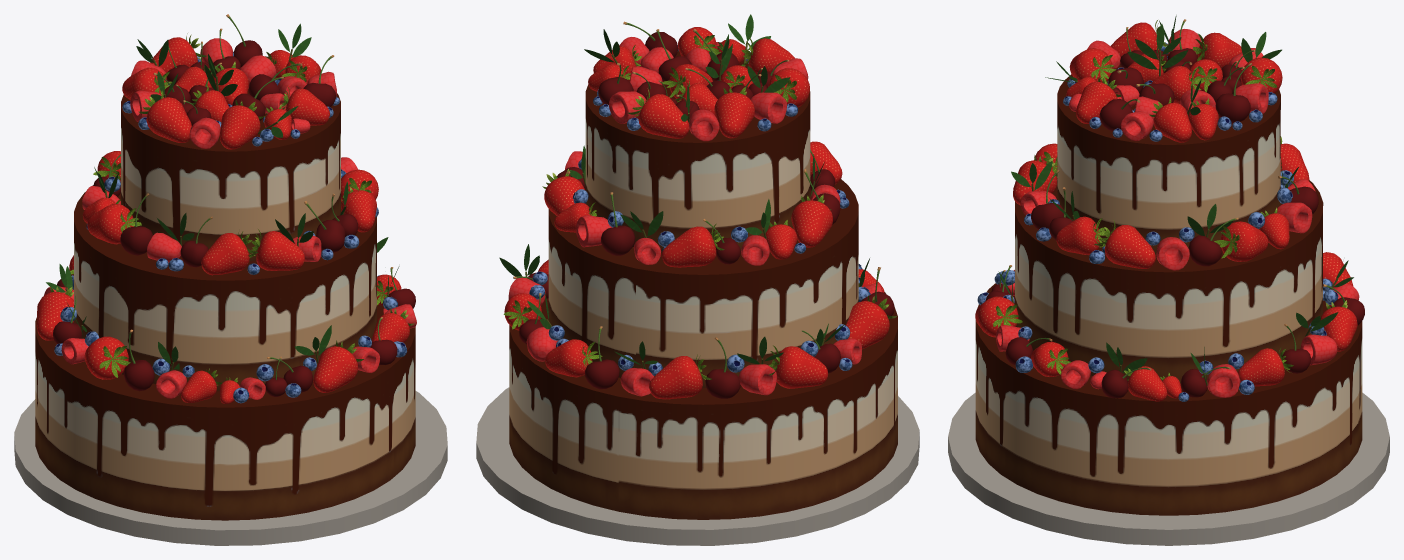
The model's file is strawberrycake.fbx.
The picture shows the model from 3 angles, left to right: view 1: azimuth 30°, elevation 25°; view 2: azimuth 150°, elevation 25°; view 3: azimuth 270°, elevation 25°; orthographic projection. The views are drawn at different scales.
Visible parts, largest first — view 1: polySurface199, pCylinder4, pCylinder114, pCylinder107, pCylinder36, pCylinder63, pCylinder64, polySurface29, pCylinder32, polySurface94, pCylinder59, pCylinder29 (+29 smaller); view 2: polySurface199, pCylinder4, pCylinder114, pCylinder26, pCylinder55, pCylinder29, pCylinder107, polySurface136, pCylinder32, pCylinder59, polySurface201, pCylinder22 (+27 smaller); view 3: polySurface199, pCylinder4, pCylinder114, pCylinder71, pCylinder107, pCylinder50, pCylinder15, pCylinder68, pCylinder36, pCylinder88, pCylinder98, pCylinder22 (+29 smaller).
Part boxes in pixels (x1=…): polySurface199: x1=35, y1=64, x2=415, y2=520; pCylinder4: x1=121, y1=61, x2=340, y2=260; pCylinder114: x1=14, y1=391, x2=447, y2=545; pCylinder107: x1=211, y1=61, x2=306, y2=104; pCylinder36: x1=313, y1=340, x2=364, y2=392; pCylinder63: x1=201, y1=231, x2=258, y2=275; pCylinder64: x1=248, y1=229, x2=304, y2=270; polySurface29: x1=146, y1=97, x2=191, y2=142; pCylinder32: x1=84, y1=336, x2=130, y2=379; polySurface94: x1=220, y1=105, x2=260, y2=149; pCylinder59: x1=87, y1=204, x2=141, y2=244; pCylinder29: x1=36, y1=286, x2=73, y2=340; polySurface199: x1=509, y1=79, x2=897, y2=519; pCylinder4: x1=585, y1=50, x2=810, y2=252; pCylinder114: x1=476, y1=387, x2=919, y2=545; pCylinder26: x1=649, y1=354, x2=711, y2=399; pCylinder55: x1=661, y1=223, x2=724, y2=267; pCylinder29: x1=769, y1=345, x2=828, y2=388; pCylinder107: x1=641, y1=29, x2=712, y2=100; polySurface136: x1=638, y1=94, x2=689, y2=138; pCylinder32: x1=846, y1=295, x2=896, y2=349; pCylinder59: x1=791, y1=194, x2=832, y2=247; polySurface201: x1=714, y1=92, x2=754, y2=138; pCylinder22: x1=545, y1=339, x2=602, y2=377; polySurface199: x1=975, y1=59, x2=1362, y2=515; pCylinder4: x1=1057, y1=53, x2=1280, y2=256; pCylinder114: x1=948, y1=392, x2=1389, y2=545; pCylinder71: x1=1094, y1=220, x2=1155, y2=268; pCylinder107: x1=1134, y1=66, x2=1205, y2=123; pCylinder50: x1=1214, y1=221, x2=1268, y2=261; pCylinder15: x1=1238, y1=347, x2=1293, y2=386; pCylinder68: x1=1056, y1=216, x2=1105, y2=254; pCylinder36: x1=975, y1=296, x2=1022, y2=337; pCylinder88: x1=1149, y1=97, x2=1191, y2=142; pCylinder98: x1=1076, y1=77, x2=1120, y2=123; pCylinder22: x1=1320, y1=300, x2=1357, y2=351.
Bounding box in the file's own units: 35.62 × 36.99 × 35.62.
